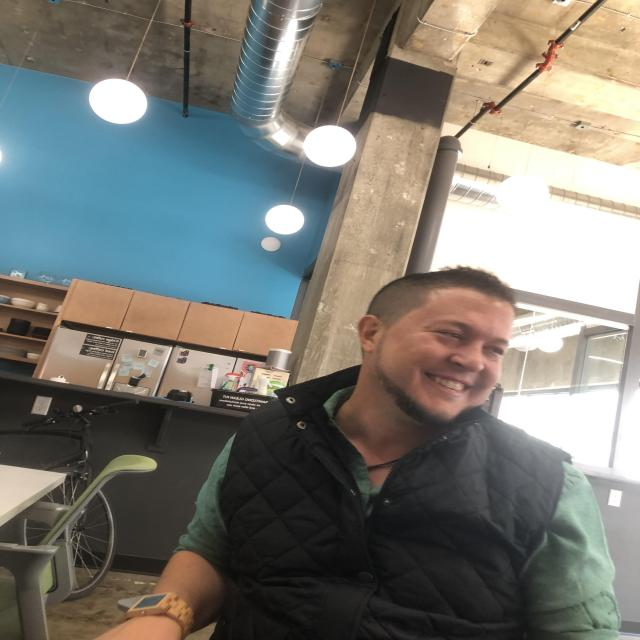face: (372, 303, 515, 428)
